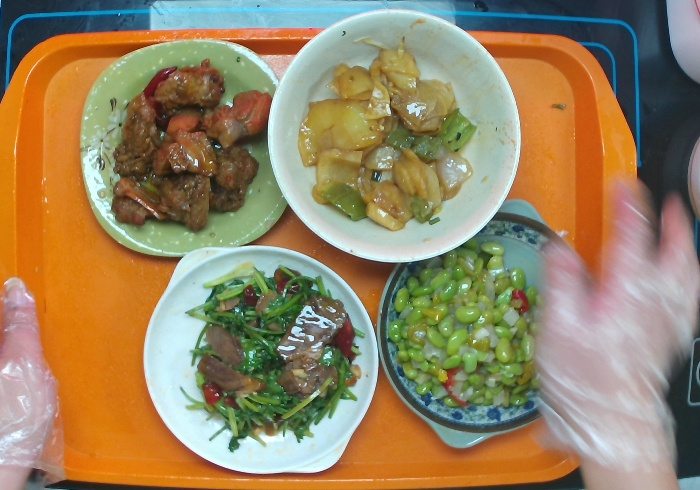NLDX-Bai_Se_Shuang_Er_Die: (138, 240, 380, 476)
NLDX-Bai_Se_Yuan_Wan: (261, 8, 522, 265)
NLDX-Lv_Hua_Fang_Die: (77, 36, 287, 258)
NLDX-Qing_Hua_Shuang_Er_Die: (373, 192, 556, 452)
